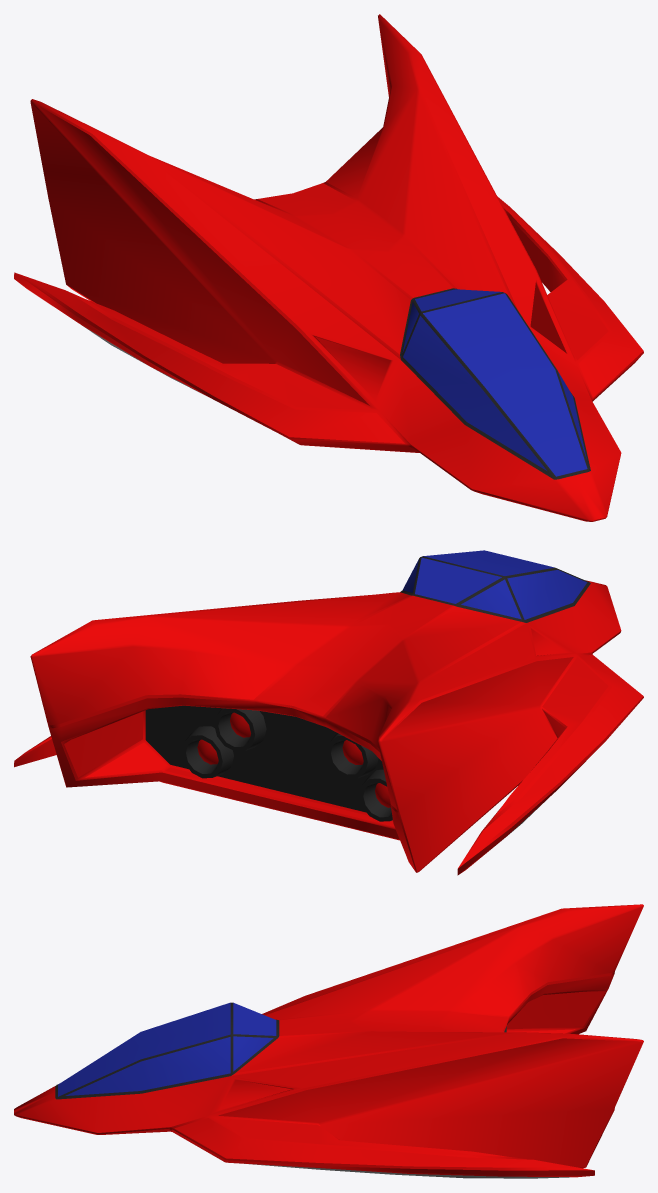
File: 180630_Swallow_EDGEDD.fbx
3 views of the same model, one above another, from view 1: azimuth 30°, elevation 25°; view 2: azimuth 150°, elevation 25°; view 3: azimuth 270°, elevation 25° (orthographic). The views are drawn at different scales.
Parts seen in each view (by area): view 1: VS; view 2: VS; view 3: VS.
Boxes of the visible parts, x1,y1,x2,y2 form: VS: [14, 14, 643, 521]; VS: [14, 550, 643, 875]; VS: [14, 904, 643, 1178].
Bounding box in the file's own units: 301 × 118 × 463.
